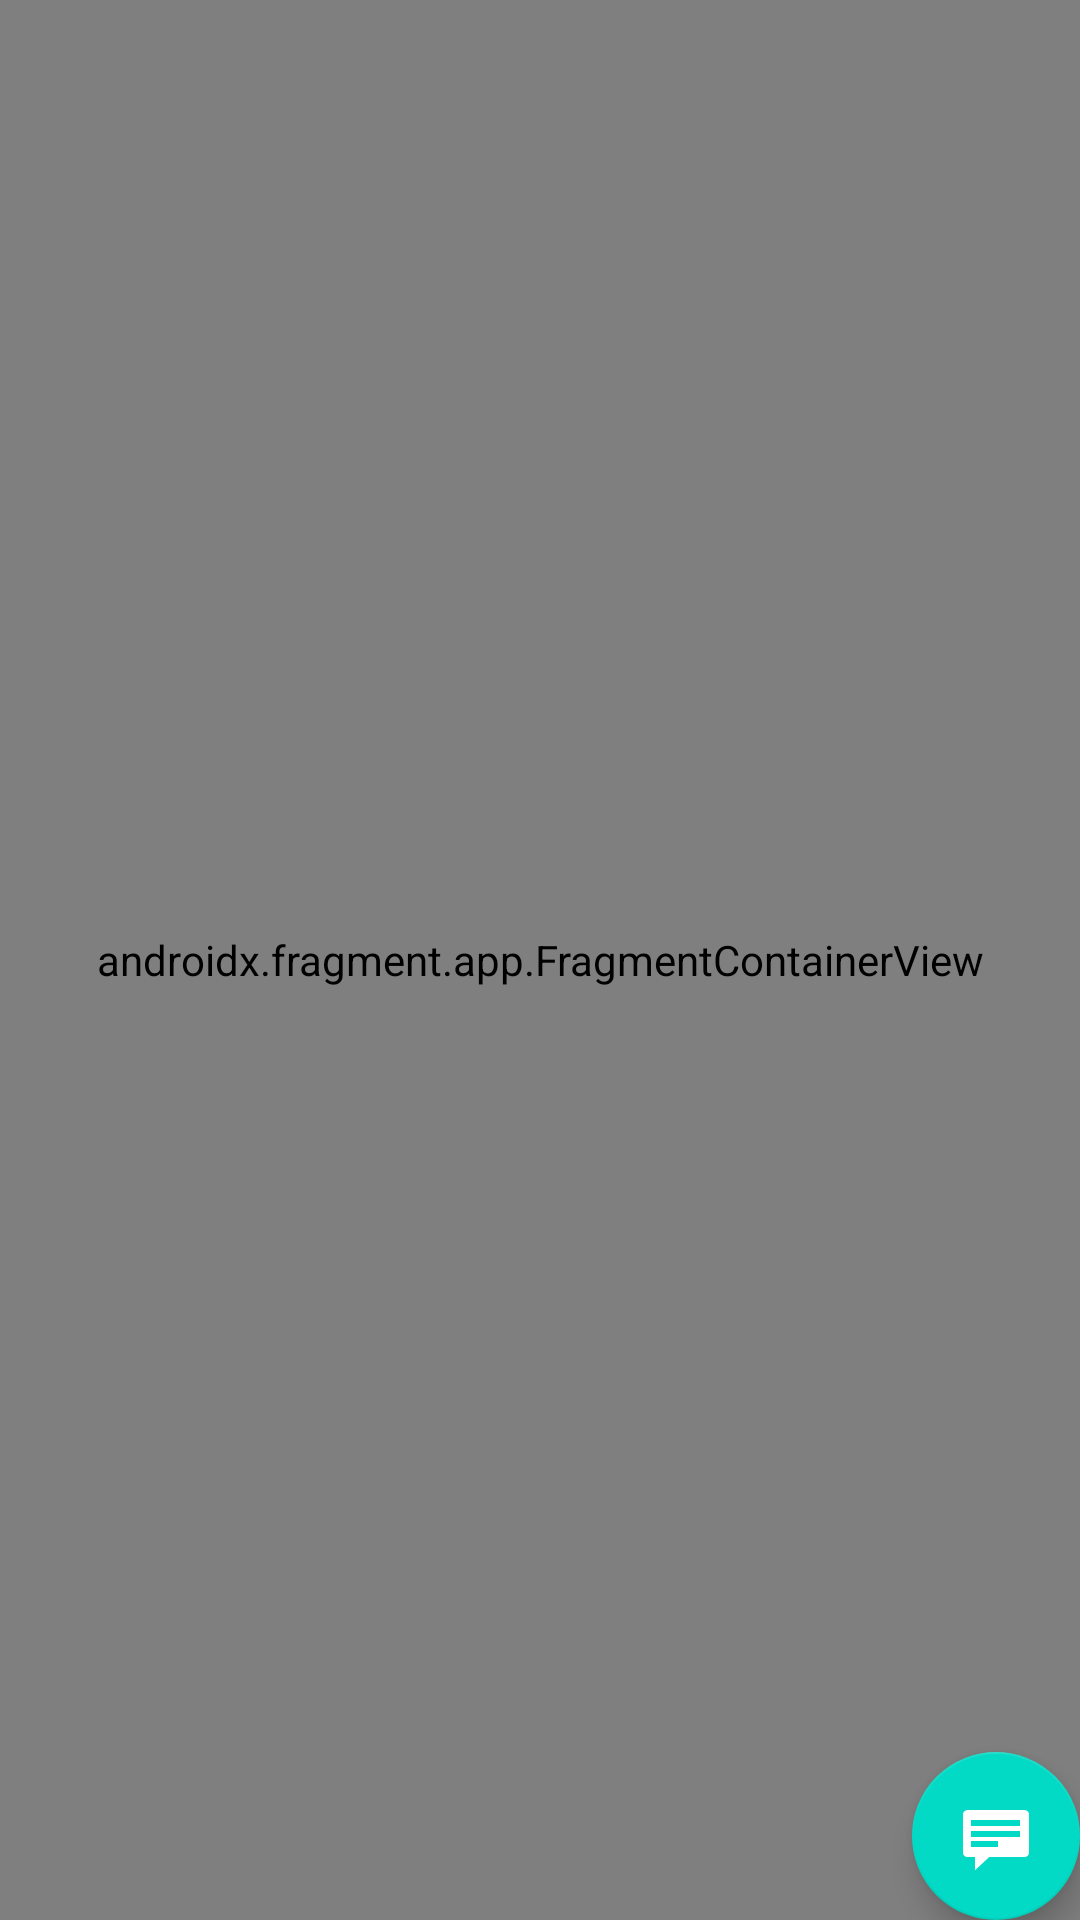

Icons on this 1080 × 1920 Android screen, each with the point to tap as (x=x, y=y):
chat: (x=996, y=1836)
